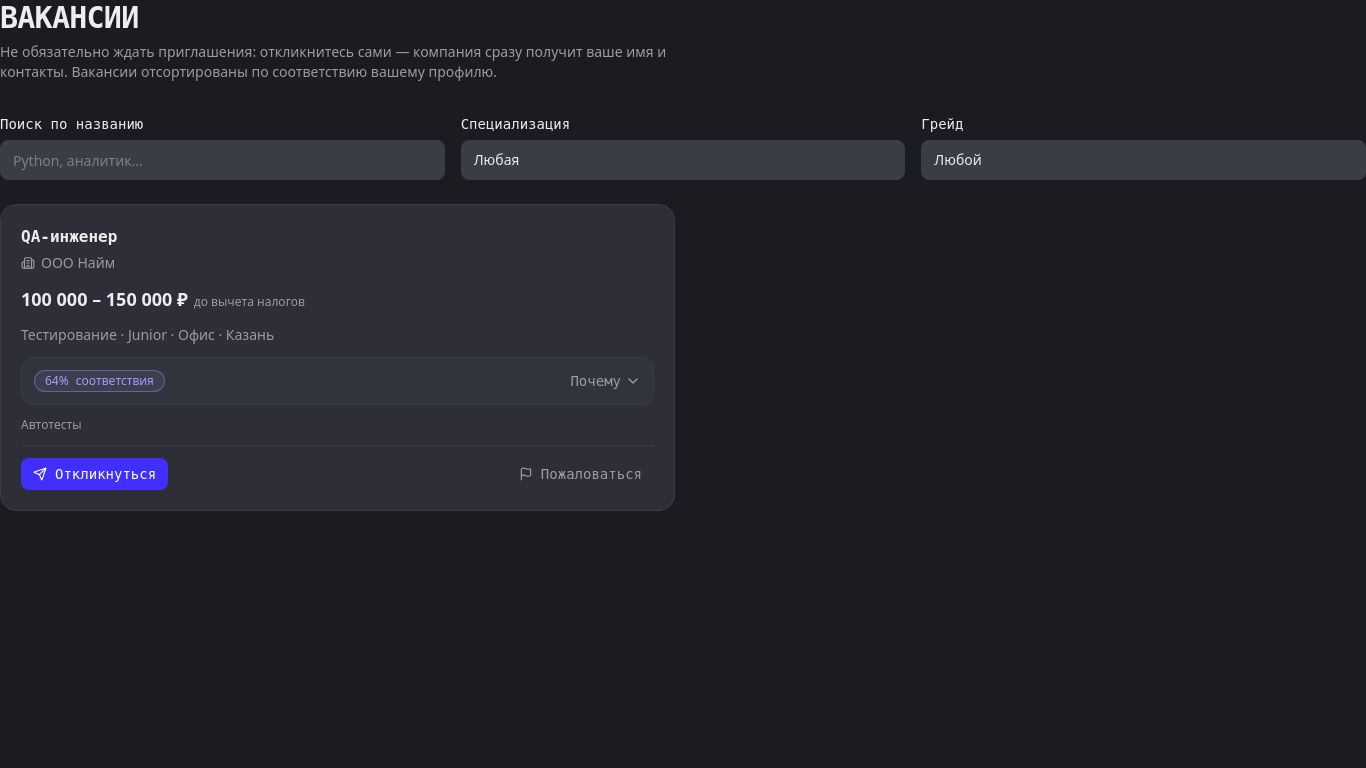
candidate contact flow › responds to a vacancy with a cover letter
Expected: the text "64%" is shown, [45,373,69,389]
Click the button "Откликнуться" at (95, 474), box [21,458,168,490]
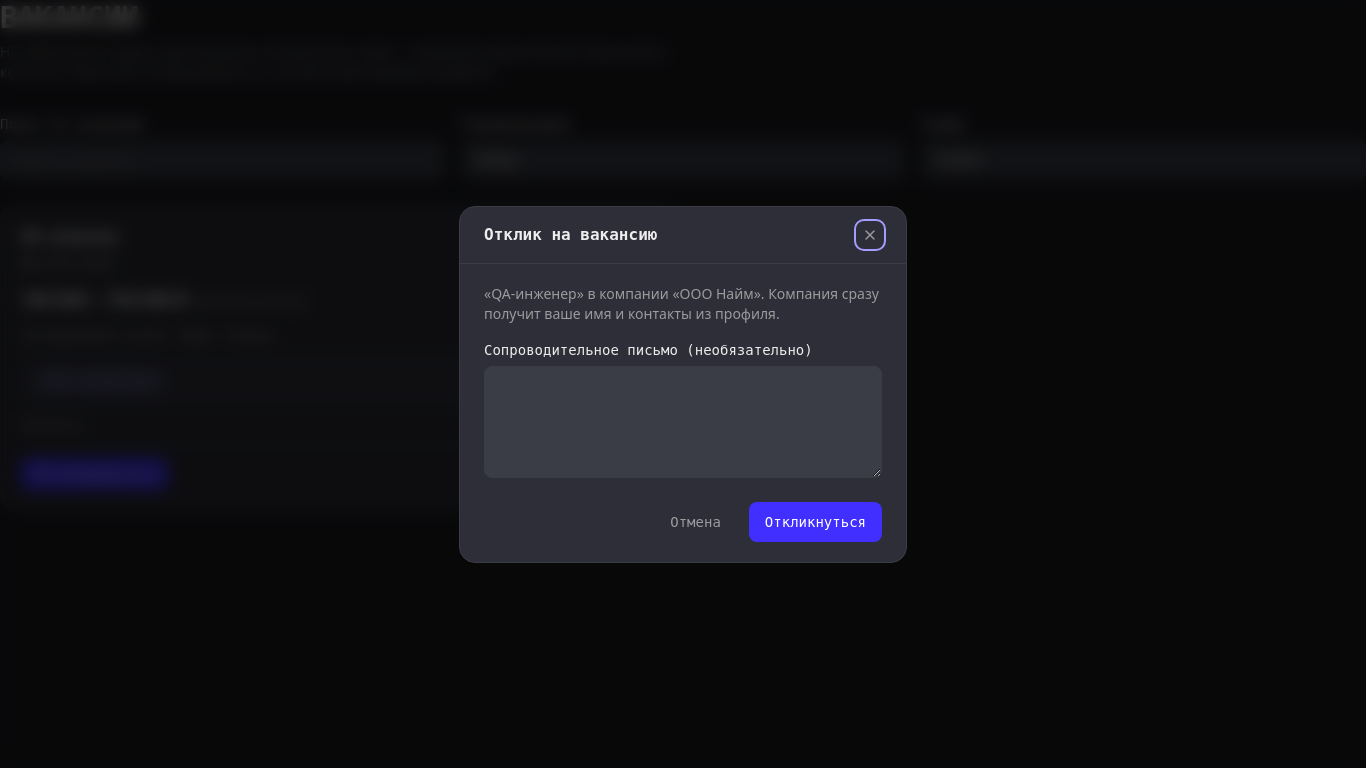
Type "Готова" into the text box labelled "Сопроводительное письмо (необязательно)" at (683, 422), box [484,366,882,478]
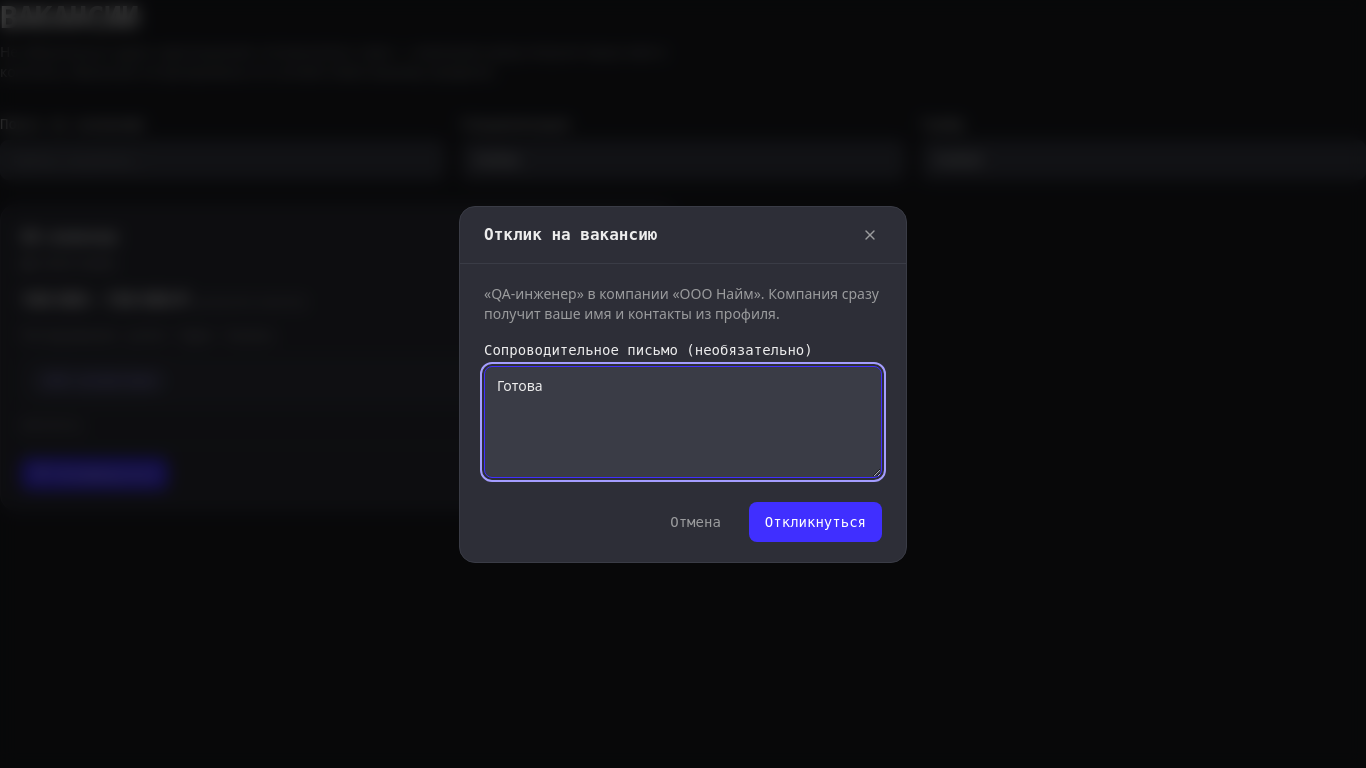
Click the button "Откликнуться" at (815, 522), box [749,502,882,542]
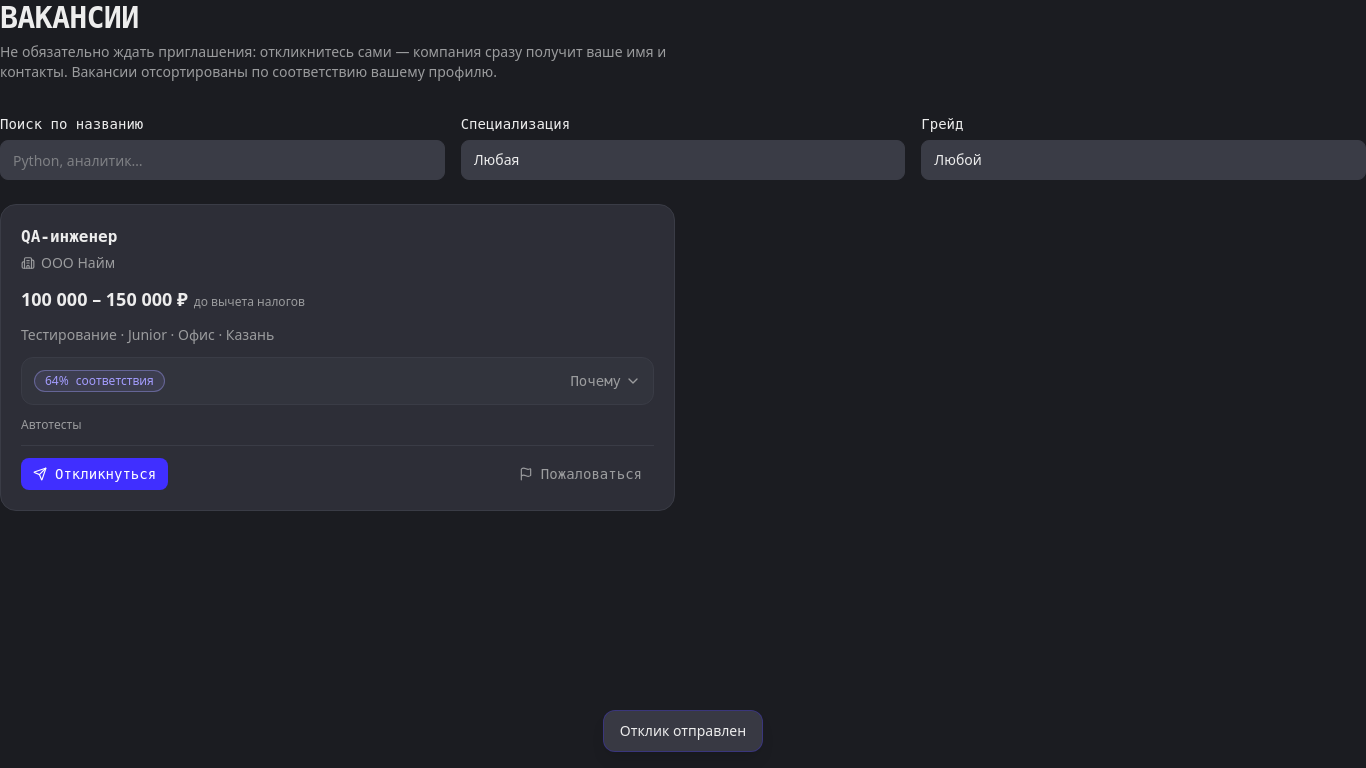
Now the text "Отклик отправлен" is shown, box [603,710,763,752]
